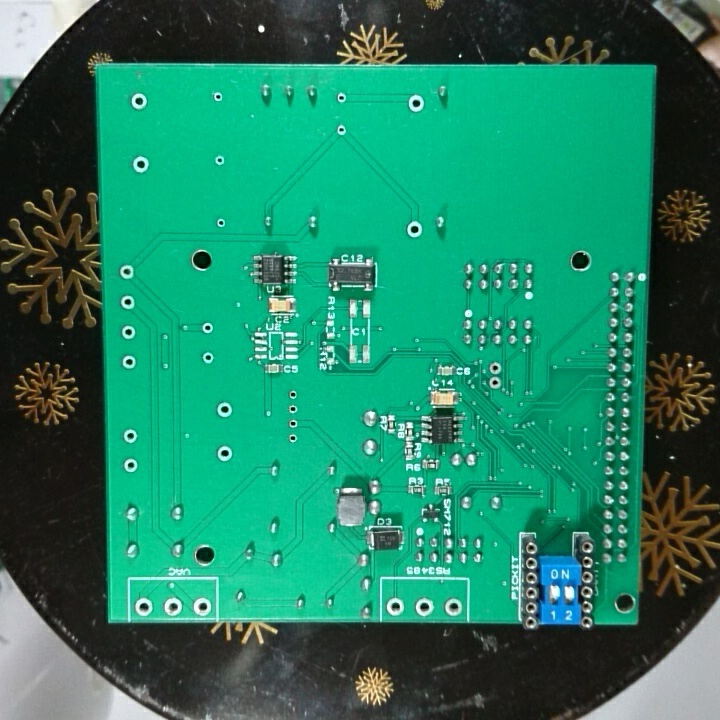F: (188, 594, 214, 620), (383, 595, 408, 619), (159, 595, 185, 618), (405, 91, 428, 116), (441, 595, 464, 620), (133, 595, 157, 618), (213, 442, 236, 465), (130, 153, 151, 178), (128, 90, 150, 113), (414, 595, 436, 618), (405, 218, 426, 241), (214, 398, 235, 421), (119, 321, 139, 343), (120, 426, 142, 446), (118, 291, 137, 313), (117, 262, 137, 282), (122, 455, 141, 475), (120, 352, 139, 371), (199, 348, 217, 368), (332, 122, 349, 140), (199, 320, 216, 337), (284, 430, 301, 447), (487, 359, 504, 376), (212, 152, 228, 169), (285, 401, 302, 417), (487, 376, 504, 392), (285, 387, 301, 403), (333, 89, 348, 106), (284, 417, 302, 431), (210, 89, 225, 105), (215, 215, 228, 232)
